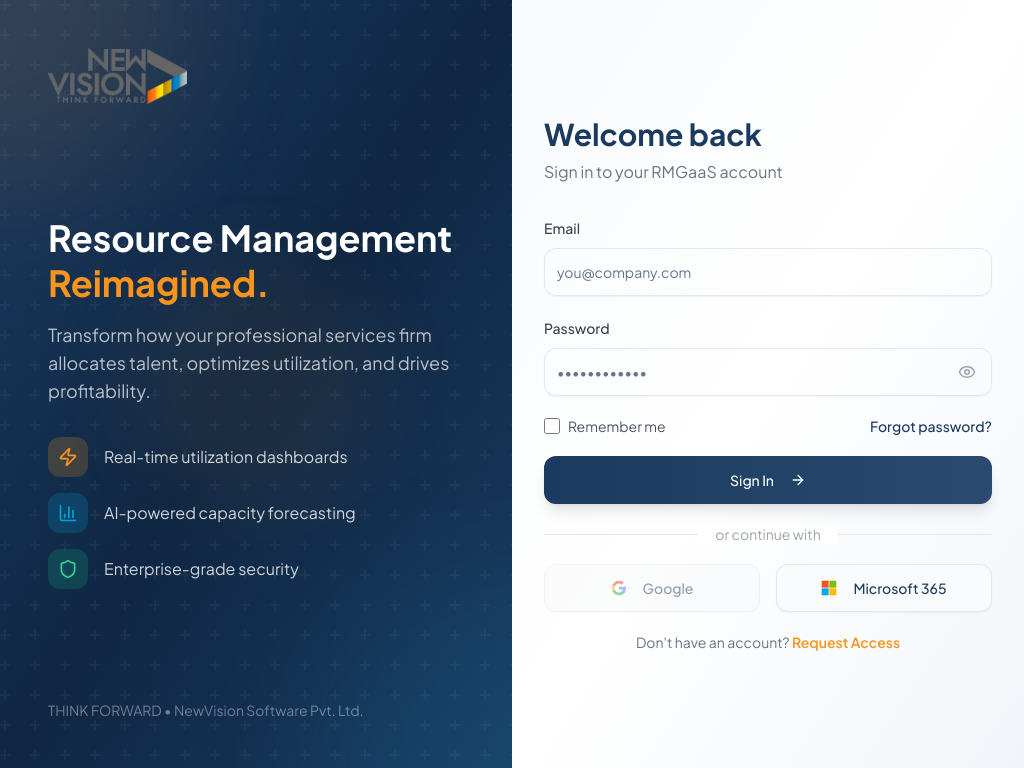
Test: LoginPage › Form Validation › shows error when submitting empty form
Note: User clicks submit without filling form
Click the button "Sign In" at {"x": 768, "y": 480}, box [544, 456, 992, 504]
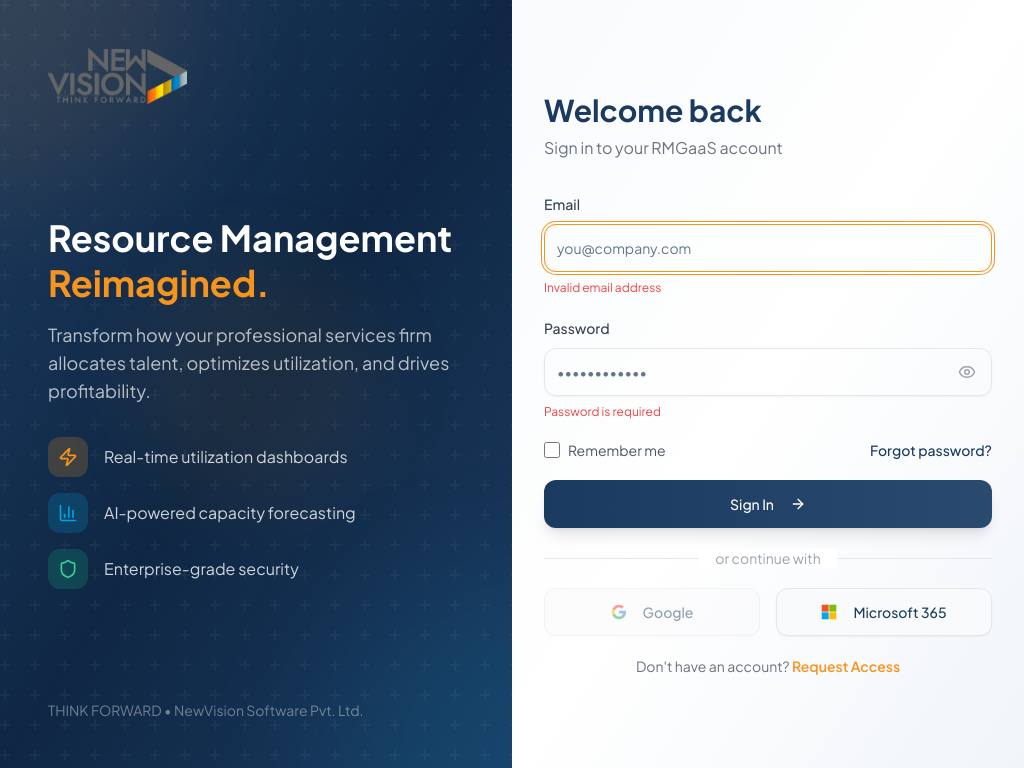
Result: the text "Invalid email address" is shown at [544, 280, 661, 295]
